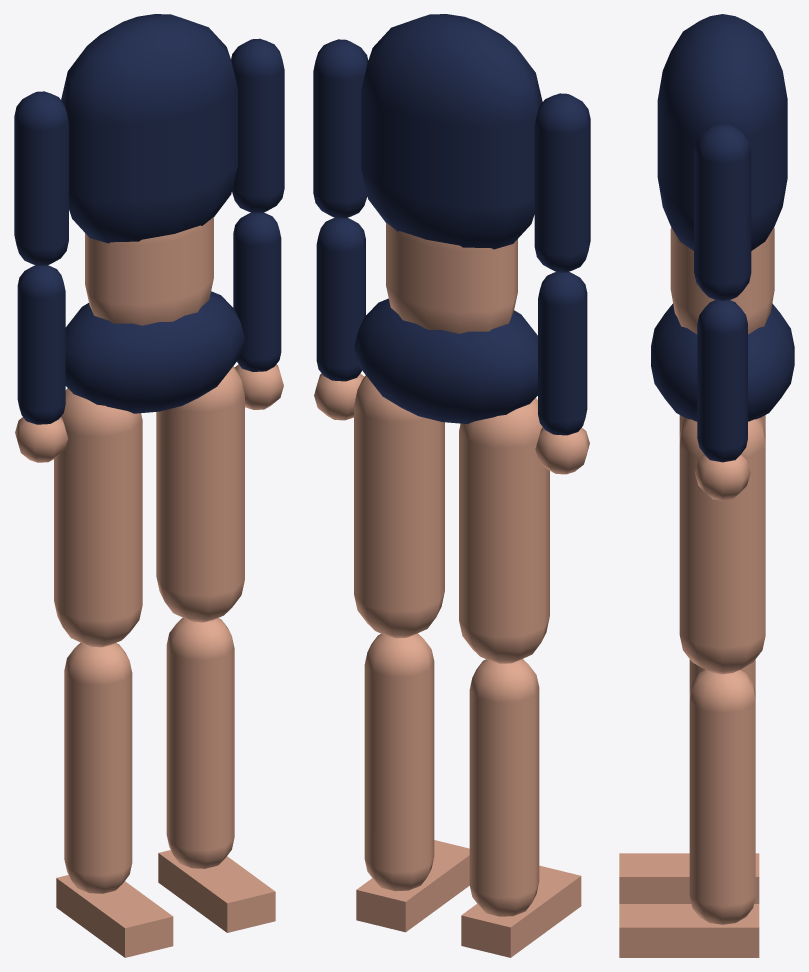
File: body-mannequin.glb
The picture shows the model from 3 angles, left to right: view 1: azimuth 30°, elevation 25°; view 2: azimuth 150°, elevation 25°; view 3: azimuth 270°, elevation 25°; orthographic projection. The views are drawn at different scales.
Visible parts, largest first — view 1: Castell_Torso_chest, Castell_Thigh_R_thigh, Castell_Thigh_L_thigh, Castell_Knee_L_shin, Castell_Knee_R_shin, Castell_Hips_pelvis, Castell_Torso_waist, Castell_Arm_R_upper, Castell_Arm_L_upper, Castell_Elbow_R_fore, Castell_Elbow_L_fore, Castell_Knee_L_foot (+3 smaller); view 2: Castell_Torso_chest, Castell_Thigh_R_thigh, Castell_Thigh_L_thigh, Castell_Knee_R_shin, Castell_Knee_L_shin, Castell_Hips_pelvis, Castell_Torso_waist, Castell_Arm_R_upper, Castell_Arm_L_upper, Castell_Elbow_R_fore, Castell_Elbow_L_fore, Castell_Knee_R_foot (+3 smaller); view 3: Castell_Torso_chest, Castell_Thigh_L_thigh, Castell_Knee_L_shin, Castell_Arm_L_upper, Castell_Hips_pelvis, Castell_Elbow_L_fore, Castell_Knee_L_foot, Castell_Torso_waist, Castell_Knee_R_foot, Castell_Elbow_L_hand, Castell_Knee_R_shin.
Boxes of the visible parts, left/top/right/bottom form: Castell_Torso_chest: left=61, top=14, right=237, bottom=243; Castell_Thigh_R_thigh: left=54, top=388, right=142, bottom=647; Castell_Thigh_L_thigh: left=156, top=366, right=244, bottom=622; Castell_Knee_L_shin: left=166, top=618, right=234, bottom=868; Castell_Knee_R_shin: left=64, top=642, right=132, bottom=893; Castell_Hips_pelvis: left=65, top=291, right=244, bottom=413; Castell_Torso_waist: left=85, top=217, right=213, bottom=325; Castell_Arm_R_upper: left=14, top=91, right=68, bottom=266; Castell_Arm_L_upper: left=231, top=38, right=284, bottom=213; Castell_Elbow_R_fore: left=17, top=265, right=65, bottom=424; Castell_Elbow_L_fore: left=233, top=212, right=281, bottom=371; Castell_Knee_L_foot: left=158, top=850, right=275, bottom=932; Castell_Torso_chest: left=361, top=14, right=542, bottom=249; Castell_Thigh_R_thigh: left=459, top=398, right=549, bottom=663; Castell_Thigh_L_thigh: left=354, top=375, right=444, bottom=638; Castell_Knee_R_shin: left=469, top=659, right=539, bottom=916; Castell_Knee_L_shin: left=364, top=633, right=434, bottom=891; Castell_Hips_pelvis: left=354, top=298, right=537, bottom=424; Castell_Torso_waist: left=386, top=223, right=517, bottom=333; Castell_Arm_R_upper: left=534, top=93, right=590, bottom=272; Castell_Arm_L_upper: left=313, top=39, right=368, bottom=218; Castell_Elbow_R_fore: left=538, top=272, right=587, bottom=435; Castell_Elbow_L_fore: left=316, top=217, right=365, bottom=381; Castell_Knee_R_foot: left=461, top=865, right=581, bottom=957; Castell_Torso_chest: left=657, top=14, right=787, bottom=250; Castell_Thigh_L_thigh: left=679, top=418, right=765, bottom=674; Castell_Knee_L_shin: left=689, top=669, right=755, bottom=924; Castell_Arm_L_upper: left=694, top=123, right=751, bottom=301; Castell_Hips_pelvis: left=651, top=303, right=794, bottom=421; Castell_Elbow_L_fore: left=697, top=300, right=747, bottom=462; Castell_Knee_L_foot: left=619, top=904, right=759, bottom=957; Castell_Torso_waist: left=670, top=227, right=774, bottom=334; Castell_Knee_R_foot: left=619, top=853, right=759, bottom=903; Castell_Elbow_L_hand: left=695, top=454, right=750, bottom=500; Castell_Knee_R_shin: left=689, top=659, right=755, bottom=693.
Size of the model in its own units: 0.466 by 1.48 by 0.2627.
